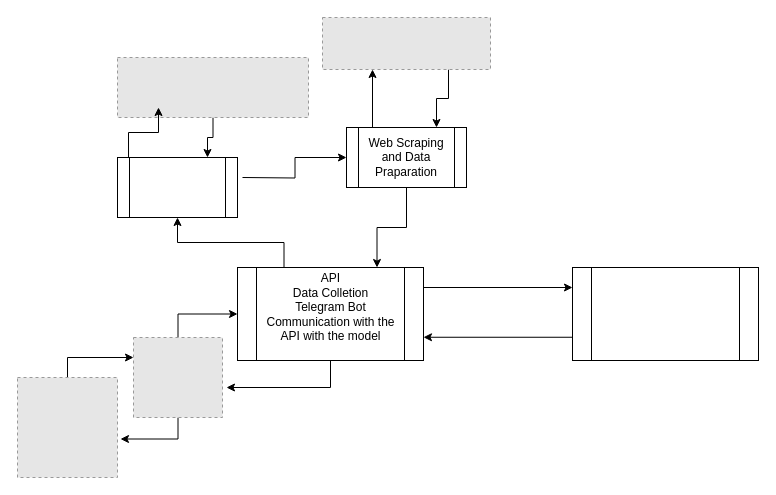
Image size: 776x495. Some labels were removed from this diagram. Grey dashed boxes stand in for pictures. Each missing label, with the centre of its shape:
API Recommendation system: [665,313]
Web Scraping and Data Preparation: [177,187]
